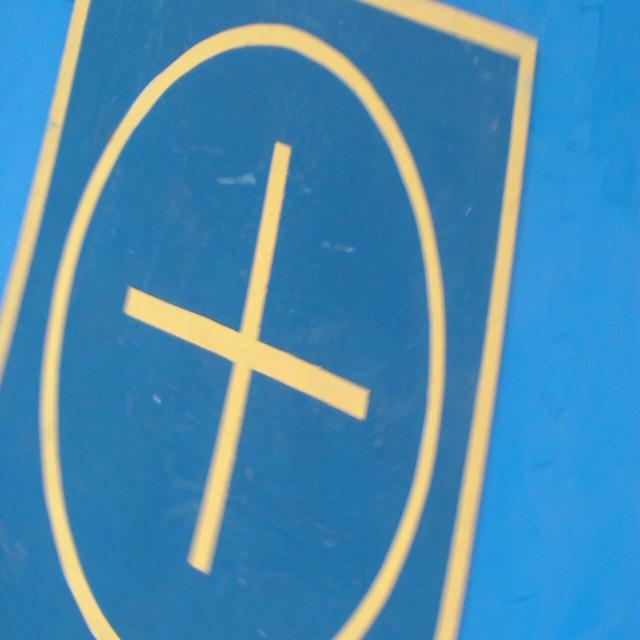base_pouso: (0, 0, 542, 639)
